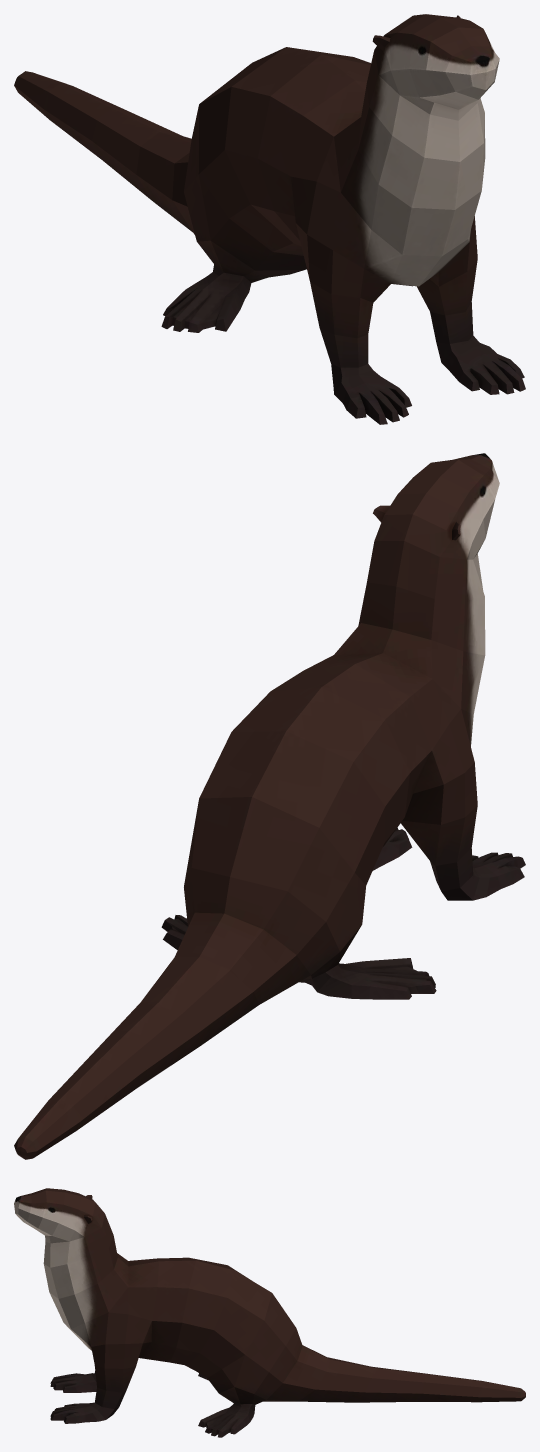
Rendered from dJW3JeUWXQ-.glb.
3 renders of one model, top to bottom at view 1: azimuth 30°, elevation 25°; view 2: azimuth 150°, elevation 25°; view 3: azimuth 270°, elevation 25°, orthographic. The views are drawn at different scales.
Parts seen in each view (by area): view 1: RiverOtter_Mesh; view 2: RiverOtter_Mesh; view 3: RiverOtter_Mesh.
Part boxes in pixels (x1,y1,x2,y2): RiverOtter_Mesh: [14, 14, 525, 424]; RiverOtter_Mesh: [14, 453, 525, 1159]; RiverOtter_Mesh: [14, 1188, 525, 1437].
Size of the model in its own units: 0.7433 by 0.9999 by 2.2.
1 material, 1 textured.
